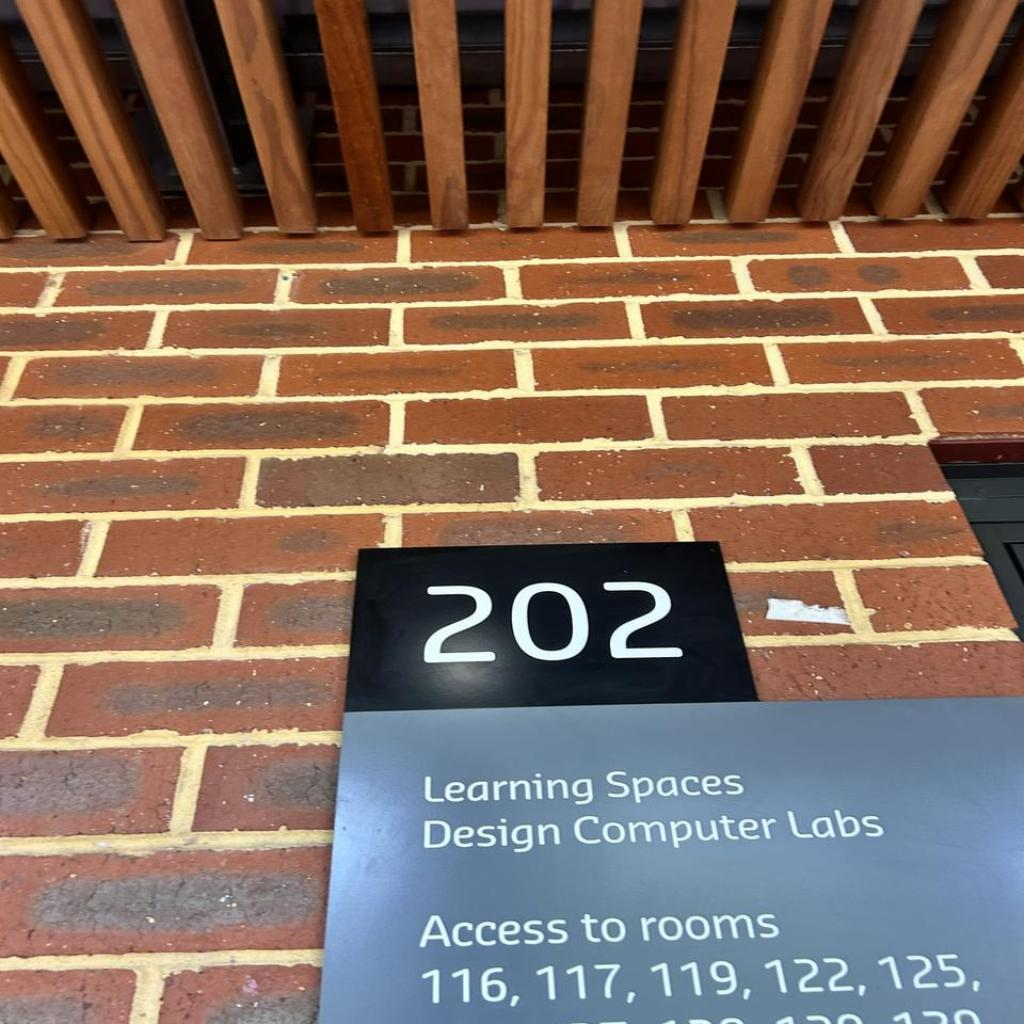BuildingCodes: (414, 576, 694, 672)
